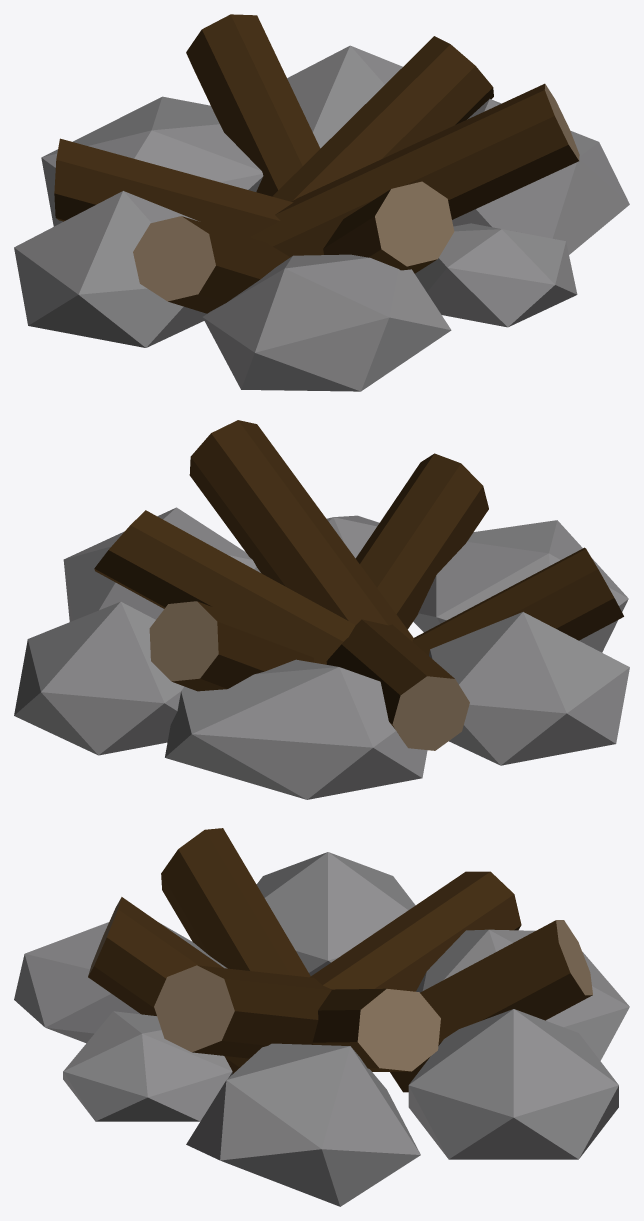
File: MSH_Campfire.fbx
The picture shows the model from 3 angles, top to bottom: view 1: azimuth 30°, elevation 25°; view 2: azimuth 150°, elevation 25°; view 3: azimuth 270°, elevation 25°; orthographic projection. The views are drawn at different scales.
Parts seen in each view (by area): view 1: Stones, Logs; view 2: Stones, Logs; view 3: Stones, Logs.
Boxes of the visible parts, x1,y1,x2,y2 form: Stones: [14, 45, 629, 391]; Logs: [54, 14, 579, 313]; Stones: [14, 507, 629, 799]; Logs: [94, 420, 623, 750]; Stones: [14, 852, 629, 1206]; Logs: [88, 828, 592, 1092].
Bounding box in the file's own units: 191 × 72.51 × 178.
